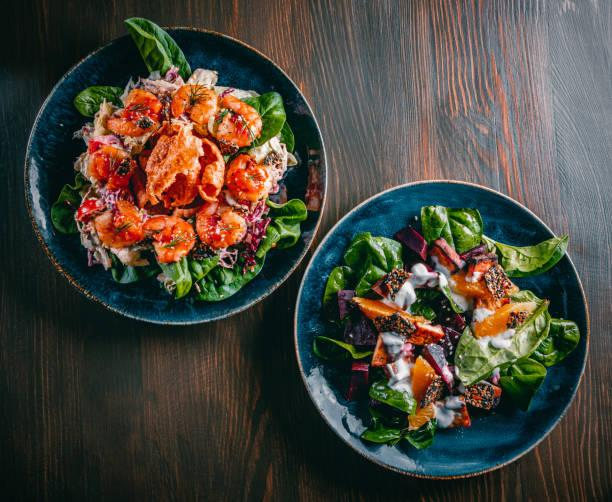Braised Crucian Carp: (23, 24, 324, 323), (292, 180, 589, 477)
